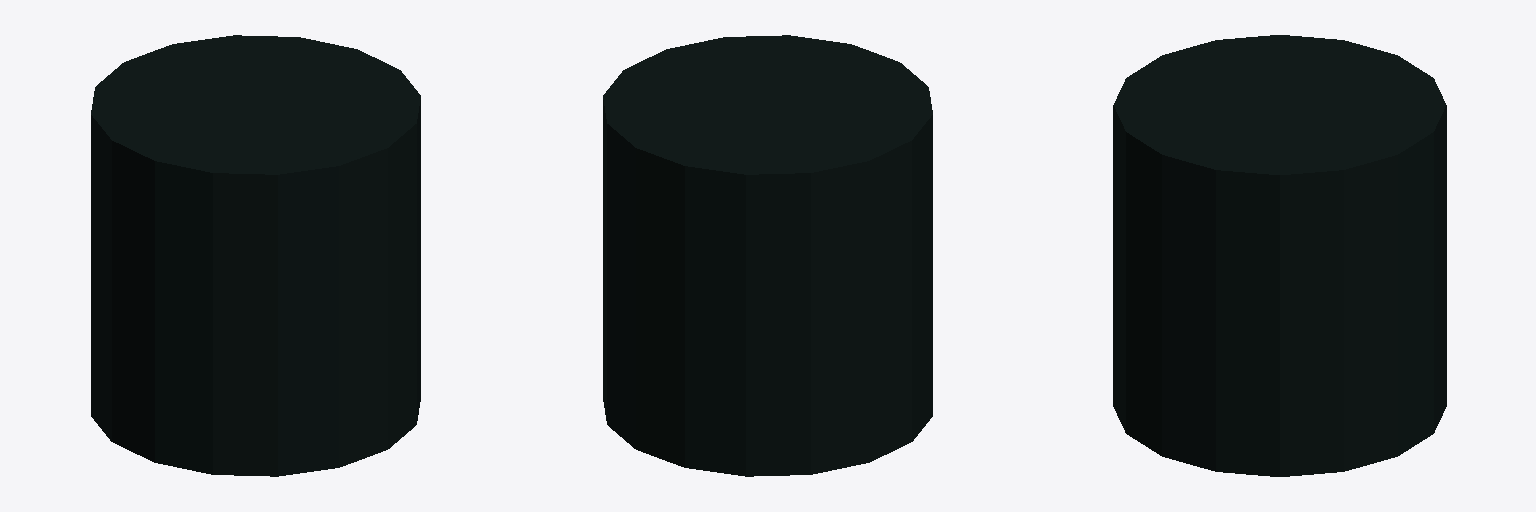
The model's file is cylinder_earth.obj.
The picture shows the model from 3 angles: view 1: azimuth 30°, elevation 25°; view 2: azimuth 150°, elevation 25°; view 3: azimuth 270°, elevation 25°; orthographic projection.
Parts seen in each view (by area): view 1: Cylinder; view 2: Cylinder; view 3: Cylinder.
Part boxes in pixels (bbox=[...]): Cylinder: bbox=[91, 35, 420, 476]; Cylinder: bbox=[603, 35, 932, 476]; Cylinder: bbox=[1113, 35, 1446, 476].
Size of the model in its own units: 2 by 2 by 2.